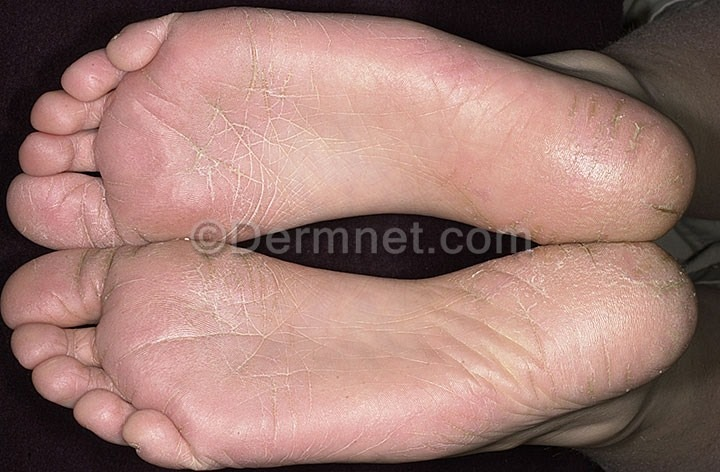Eczema: (192, 30, 313, 228), (541, 115, 671, 245), (514, 256, 670, 360), (176, 257, 281, 345)
